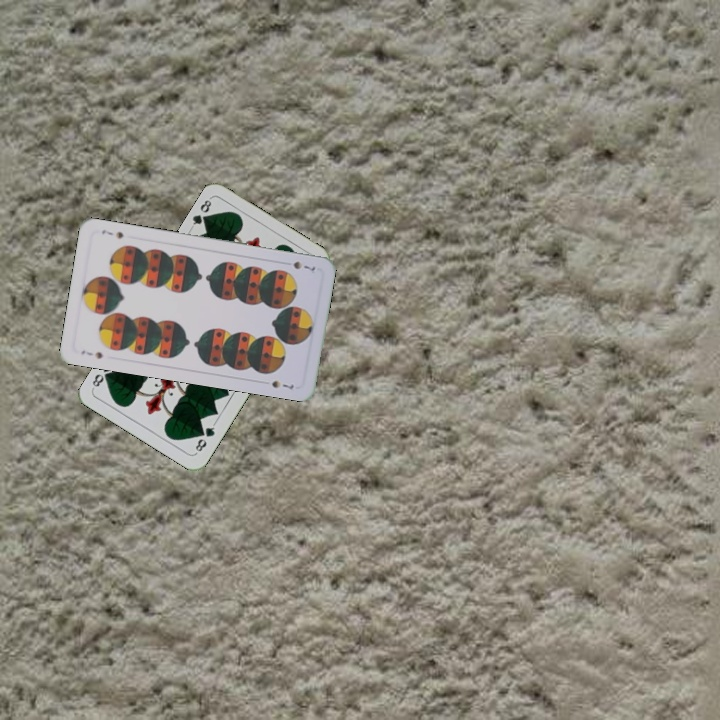G8: (191, 419, 218, 456), (187, 194, 214, 231)
S7: (289, 257, 318, 273), (77, 346, 105, 361)
